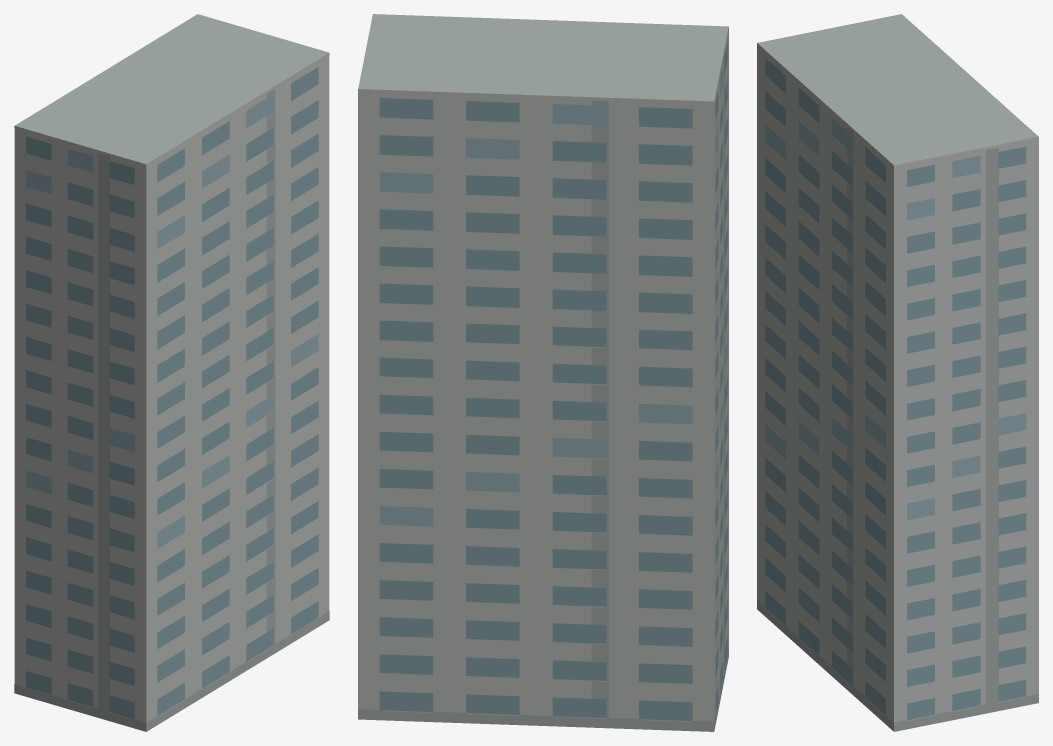
The model's file is residential-a217b7c4-b8b9-4020-9215-df0eb948509e.glb.
3 views of the same model, side by side, from view 1: azimuth 30°, elevation 25°; view 2: azimuth 150°, elevation 25°; view 3: azimuth 270°, elevation 25° (orthographic). The views are drawn at different scales.
Parts seen in each view (by area): view 1: residential-a217b7c4-b8b9-4020-9215-df0eb948509e.tmp; view 2: residential-a217b7c4-b8b9-4020-9215-df0eb948509e.tmp; view 3: residential-a217b7c4-b8b9-4020-9215-df0eb948509e.tmp.
Boxes of the visible parts, x1,y1,x2,y2 form: residential-a217b7c4-b8b9-4020-9215-df0eb948509e.tmp: (14,14,329,731); residential-a217b7c4-b8b9-4020-9215-df0eb948509e.tmp: (358,14,728,731); residential-a217b7c4-b8b9-4020-9215-df0eb948509e.tmp: (757,14,1038,731).
Bounding box in the file's own units: 28.12 × 49 × 22.1.
